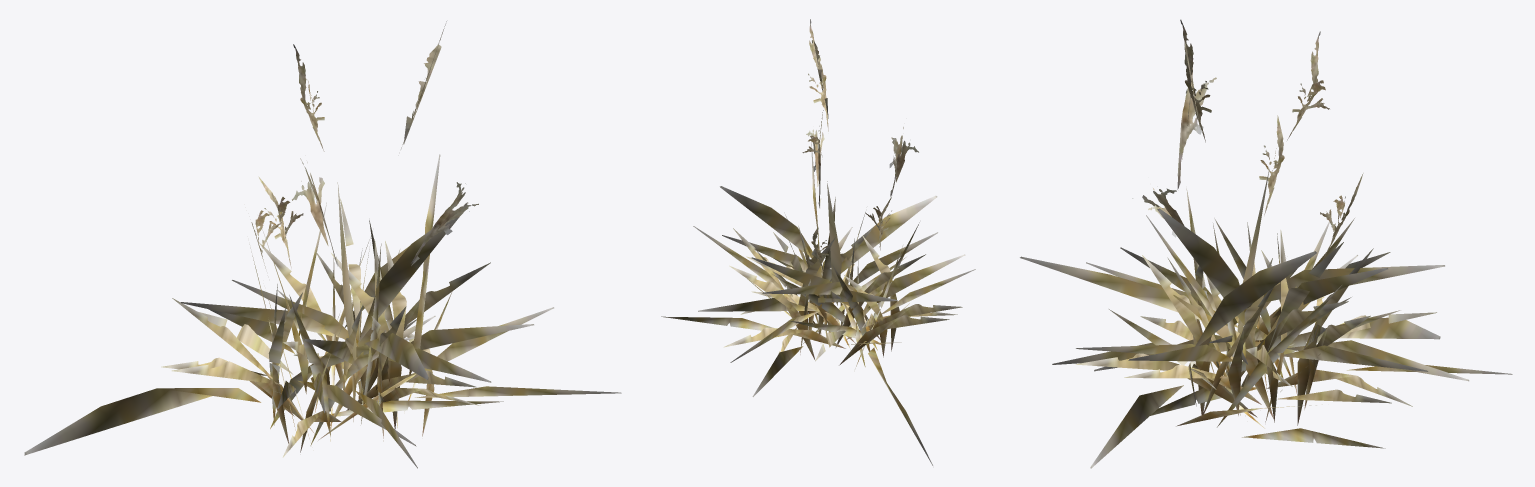
File: co-kho-d.glb
3 views of the same model, side by side, from view 1: azimuth 30°, elevation 25°; view 2: azimuth 150°, elevation 25°; view 3: azimuth 270°, elevation 25° (orthographic). The views are drawn at different scales.
Visible parts, largest first — view 1: grass_medium_01_mid_a_LOD0; view 2: grass_medium_01_mid_a_LOD0; view 3: grass_medium_01_mid_a_LOD0.
Part boxes in pixels (x1,y1,x2,y2): grass_medium_01_mid_a_LOD0: (24,21,621,468); grass_medium_01_mid_a_LOD0: (661,19,975,465); grass_medium_01_mid_a_LOD0: (1020,19,1512,468).
Size of the model in its own units: 0.974 by 0.9789 by 0.9496.
Materials: 1 (1 with a texture image).
